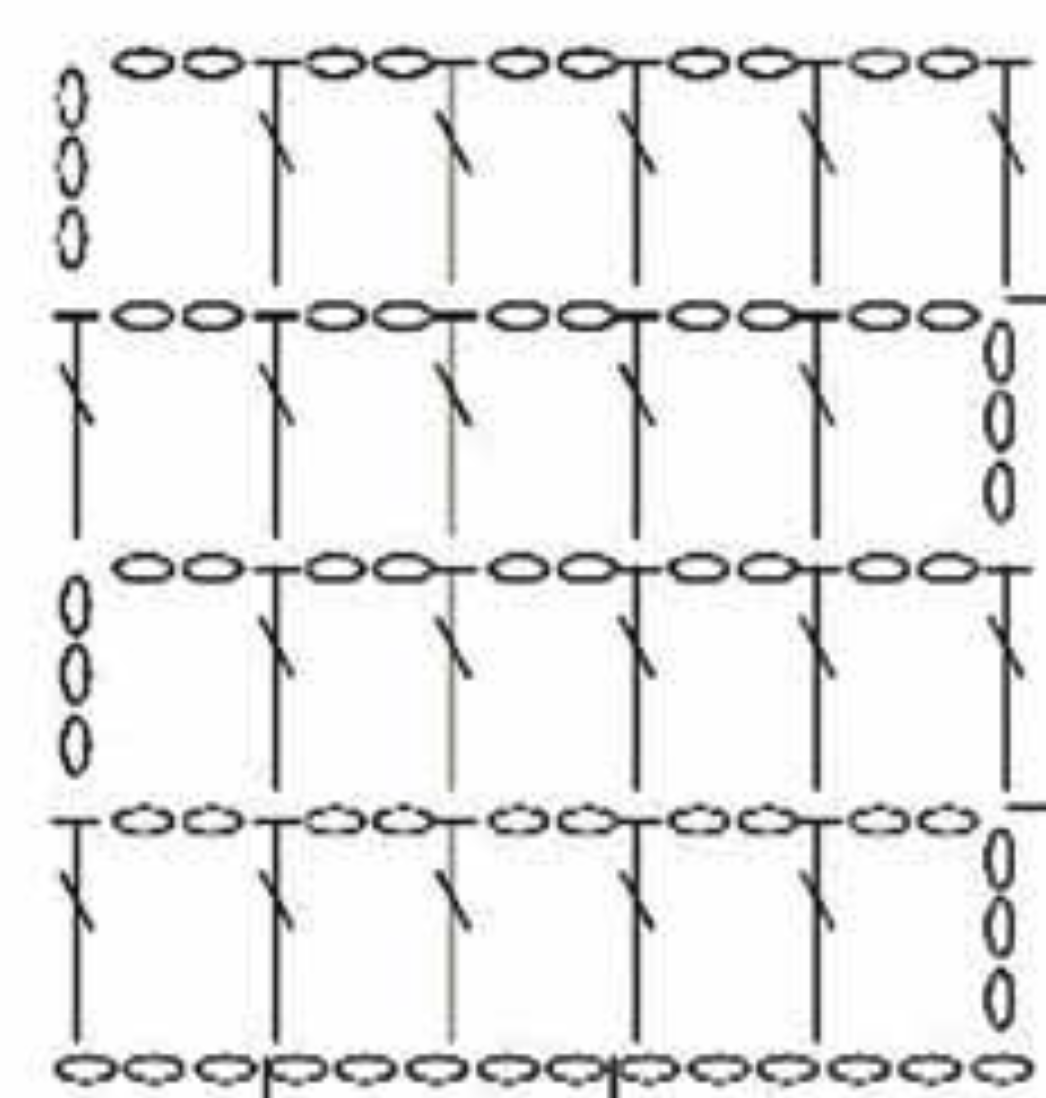ensemble_wrong: (261, 1055, 272, 1098), (609, 1052, 619, 1098), (1003, 295, 1046, 305), (1003, 802, 1046, 811)
slip_stitch: (250, 59, 304, 288), (48, 817, 102, 1046), (982, 59, 1035, 288), (611, 564, 664, 793), (793, 58, 845, 287), (250, 566, 302, 793), (252, 818, 304, 1045), (612, 58, 663, 288), (427, 307, 479, 532), (612, 308, 661, 541), (984, 565, 1034, 793), (51, 310, 100, 541), (795, 817, 844, 1046), (795, 565, 844, 793), (614, 817, 663, 1045), (252, 310, 300, 541), (795, 308, 841, 541), (430, 565, 476, 793), (434, 817, 479, 1045), (434, 58, 478, 286)
treble: (735, 44, 802, 81), (737, 800, 800, 838), (554, 46, 621, 81), (53, 68, 89, 133), (193, 1053, 259, 1088), (53, 136, 89, 200), (53, 206, 89, 270), (304, 45, 369, 80), (687, 1053, 752, 1088), (897, 1053, 962, 1088), (307, 800, 368, 837), (182, 46, 248, 80), (182, 802, 246, 837), (756, 1053, 820, 1088), (558, 549, 620, 585), (110, 46, 175, 80), (59, 574, 93, 639), (110, 802, 175, 836), (404, 1054, 469, 1088), (827, 1053, 892, 1087), (969, 1053, 1034, 1087), (371, 802, 436, 836), (734, 550, 799, 584), (916, 551, 981, 585), (122, 1053, 185, 1088), (668, 47, 731, 82), (736, 297, 797, 333), (54, 1054, 120, 1087), (486, 46, 550, 80), (59, 643, 93, 707), (917, 802, 981, 836), (476, 1054, 540, 1088), (618, 1054, 682, 1088), (110, 552, 175, 585), (60, 714, 93, 779), (916, 300, 983, 332), (917, 46, 980, 80), (544, 1053, 607, 1087), (373, 298, 434, 333), (846, 47, 910, 80), (983, 461, 1015, 527), (182, 552, 248, 584), (983, 967, 1015, 1033), (110, 300, 175, 332), (485, 300, 550, 332), (983, 320, 1015, 385), (485, 552, 550, 584), (983, 828, 1015, 893), (487, 802, 550, 835), (335, 1054, 398, 1087), (182, 300, 246, 332), (666, 300, 730, 332), (847, 300, 911, 332), (983, 390, 1015, 454), (666, 552, 730, 584), (666, 803, 730, 835), (847, 803, 911, 835), (983, 895, 1015, 959), (372, 551, 436, 583), (372, 46, 432, 80), (559, 803, 619, 837), (556, 299, 616, 333), (305, 300, 368, 332), (305, 552, 368, 584), (847, 552, 910, 584), (270, 1054, 328, 1087)
